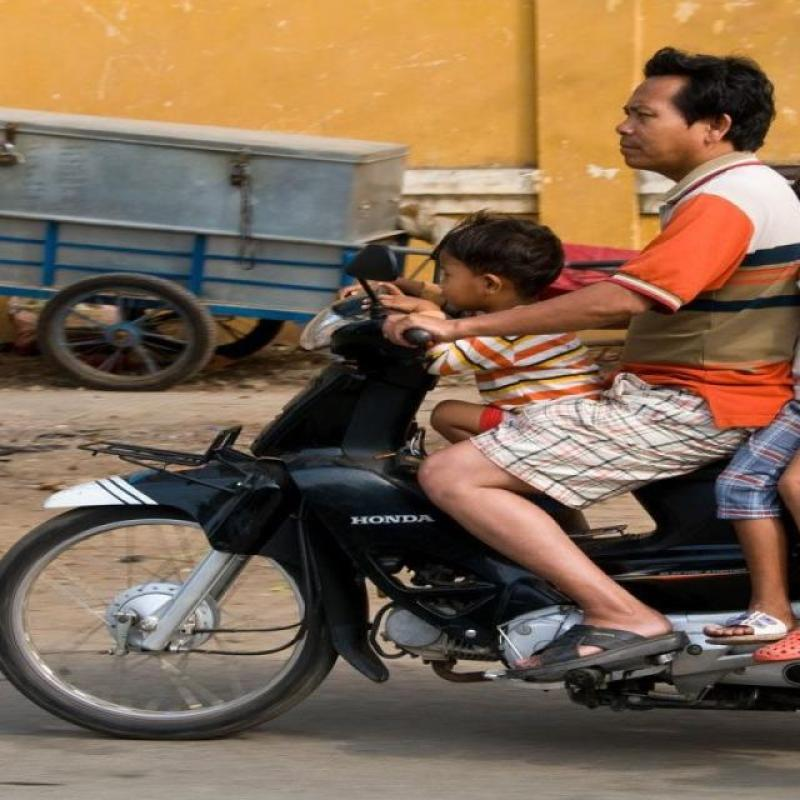nohelmet: (618, 43, 798, 174)
